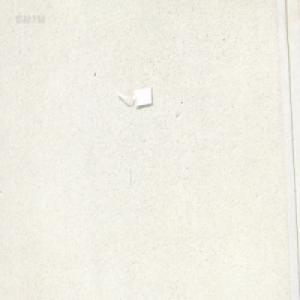LuggageTag: (114, 86, 152, 109)
